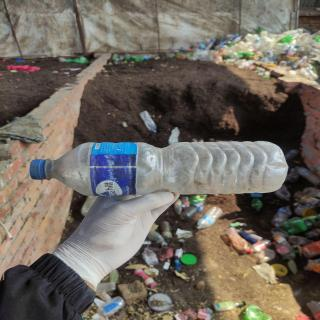Plastic-bottle: (26, 138, 291, 200)
